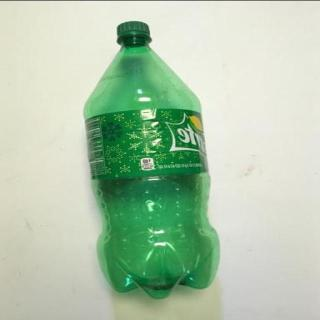Anorganik: (76, 17, 223, 303)
